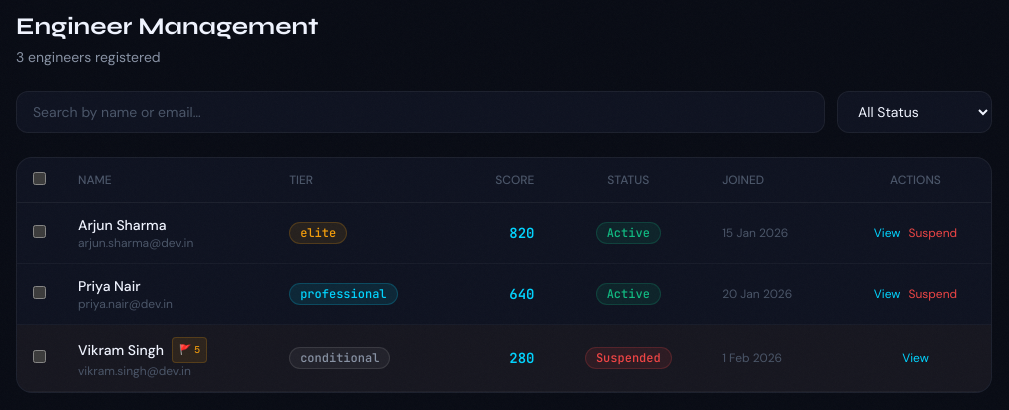
Test: Module 8: Admin Dashboard › Engineer Management › searches engineers by name
Type "Priya" into the search field named "Search engineers".
click(420, 112); type("Priya")  # box [16, 91, 825, 133]
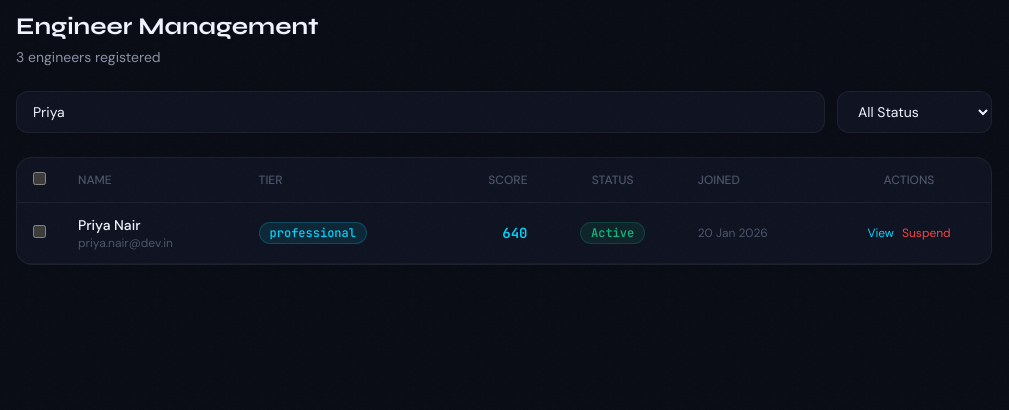
Expected: the text "Priya Nair" is shown, [78, 216, 140, 234]
Expected: the text "Arjun Sharma" is gone
